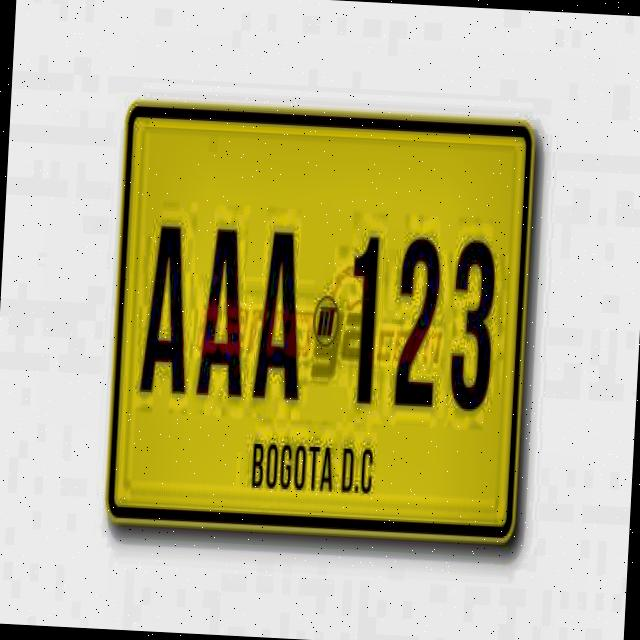plate: (109, 110, 532, 535)
